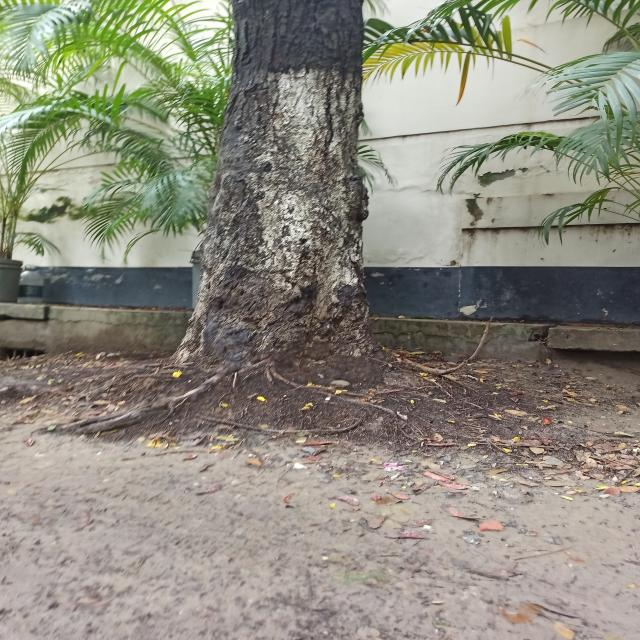artificial_container: (17, 264, 44, 304), (0, 258, 23, 303)
